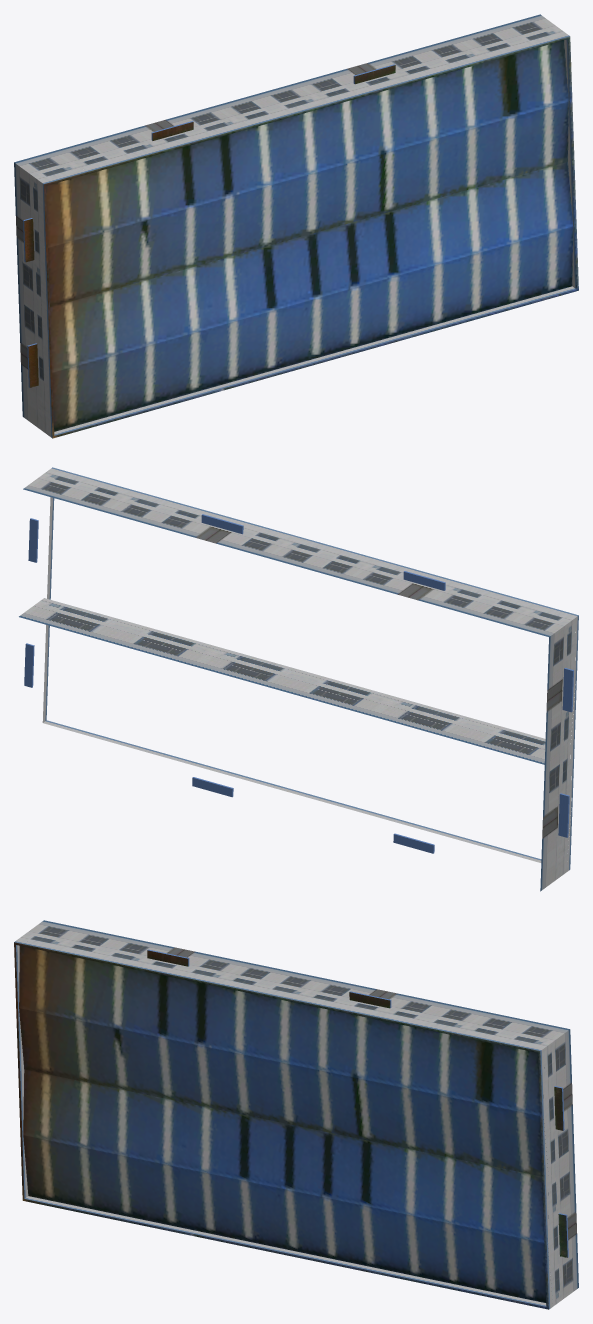
3 views of the same model, one above another, from view 1: azimuth 30°, elevation 25°; view 2: azimuth 150°, elevation 25°; view 3: azimuth 330°, elevation 25° (orthographic).
Parts seen in each view (by area): view 1: Group_MatrixTransform_i95082_Geometry_12, Group_MatrixTransform_i95082_Geometry_11, Group_MatrixTransform_i95082_Geometry_1, Group_MatrixTransform_i95082_Geometry_13, Group_MatrixTransform_i95082_Geometry_0, Group_MatrixTransform_i95082_Geometry_10; view 2: Group_MatrixTransform_i95082_Geometry_1, Group_MatrixTransform_i95082_Geometry_0, Group_MatrixTransform_i95082_Geometry_14, Group_MatrixTransform_i95082_Geometry_10; view 3: Group_MatrixTransform_i95082_Geometry_12, Group_MatrixTransform_i95082_Geometry_11, Group_MatrixTransform_i95082_Geometry_1, Group_MatrixTransform_i95082_Geometry_13, Group_MatrixTransform_i95082_Geometry_0.
Boxes of the visible parts, x1,y1,x2,y2 form: Group_MatrixTransform_i95082_Geometry_12: (50,162,573,431); Group_MatrixTransform_i95082_Geometry_11: (46,40,568,307); Group_MatrixTransform_i95082_Geometry_1: (14,14,576,435); Group_MatrixTransform_i95082_Geometry_13: (44,36,578,438); Group_MatrixTransform_i95082_Geometry_0: (15,60,405,394); Group_MatrixTransform_i95082_Geometry_10: (21,373,52,438); Group_MatrixTransform_i95082_Geometry_1: (19,467,578,862); Group_MatrixTransform_i95082_Geometry_0: (187,513,577,847); Group_MatrixTransform_i95082_Geometry_14: (24,514,573,853); Group_MatrixTransform_i95082_Geometry_10: (540,826,571,891); Group_MatrixTransform_i95082_Geometry_12: (23,1069,548,1302); Group_MatrixTransform_i95082_Geometry_11: (19,945,547,1176); Group_MatrixTransform_i95082_Geometry_1: (14,920,578,1309); Group_MatrixTransform_i95082_Geometry_13: (14,942,548,1309); Group_MatrixTransform_i95082_Geometry_0: (135,945,577,1264).
Size of the model in its own units: 81.89 by 40.18 by 7.73.
15 materials, 15 textured.
